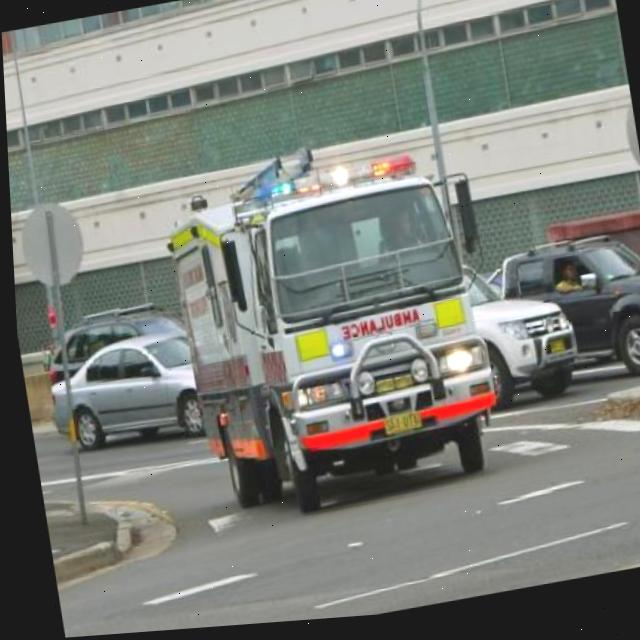emergency: (151, 124, 510, 534)
